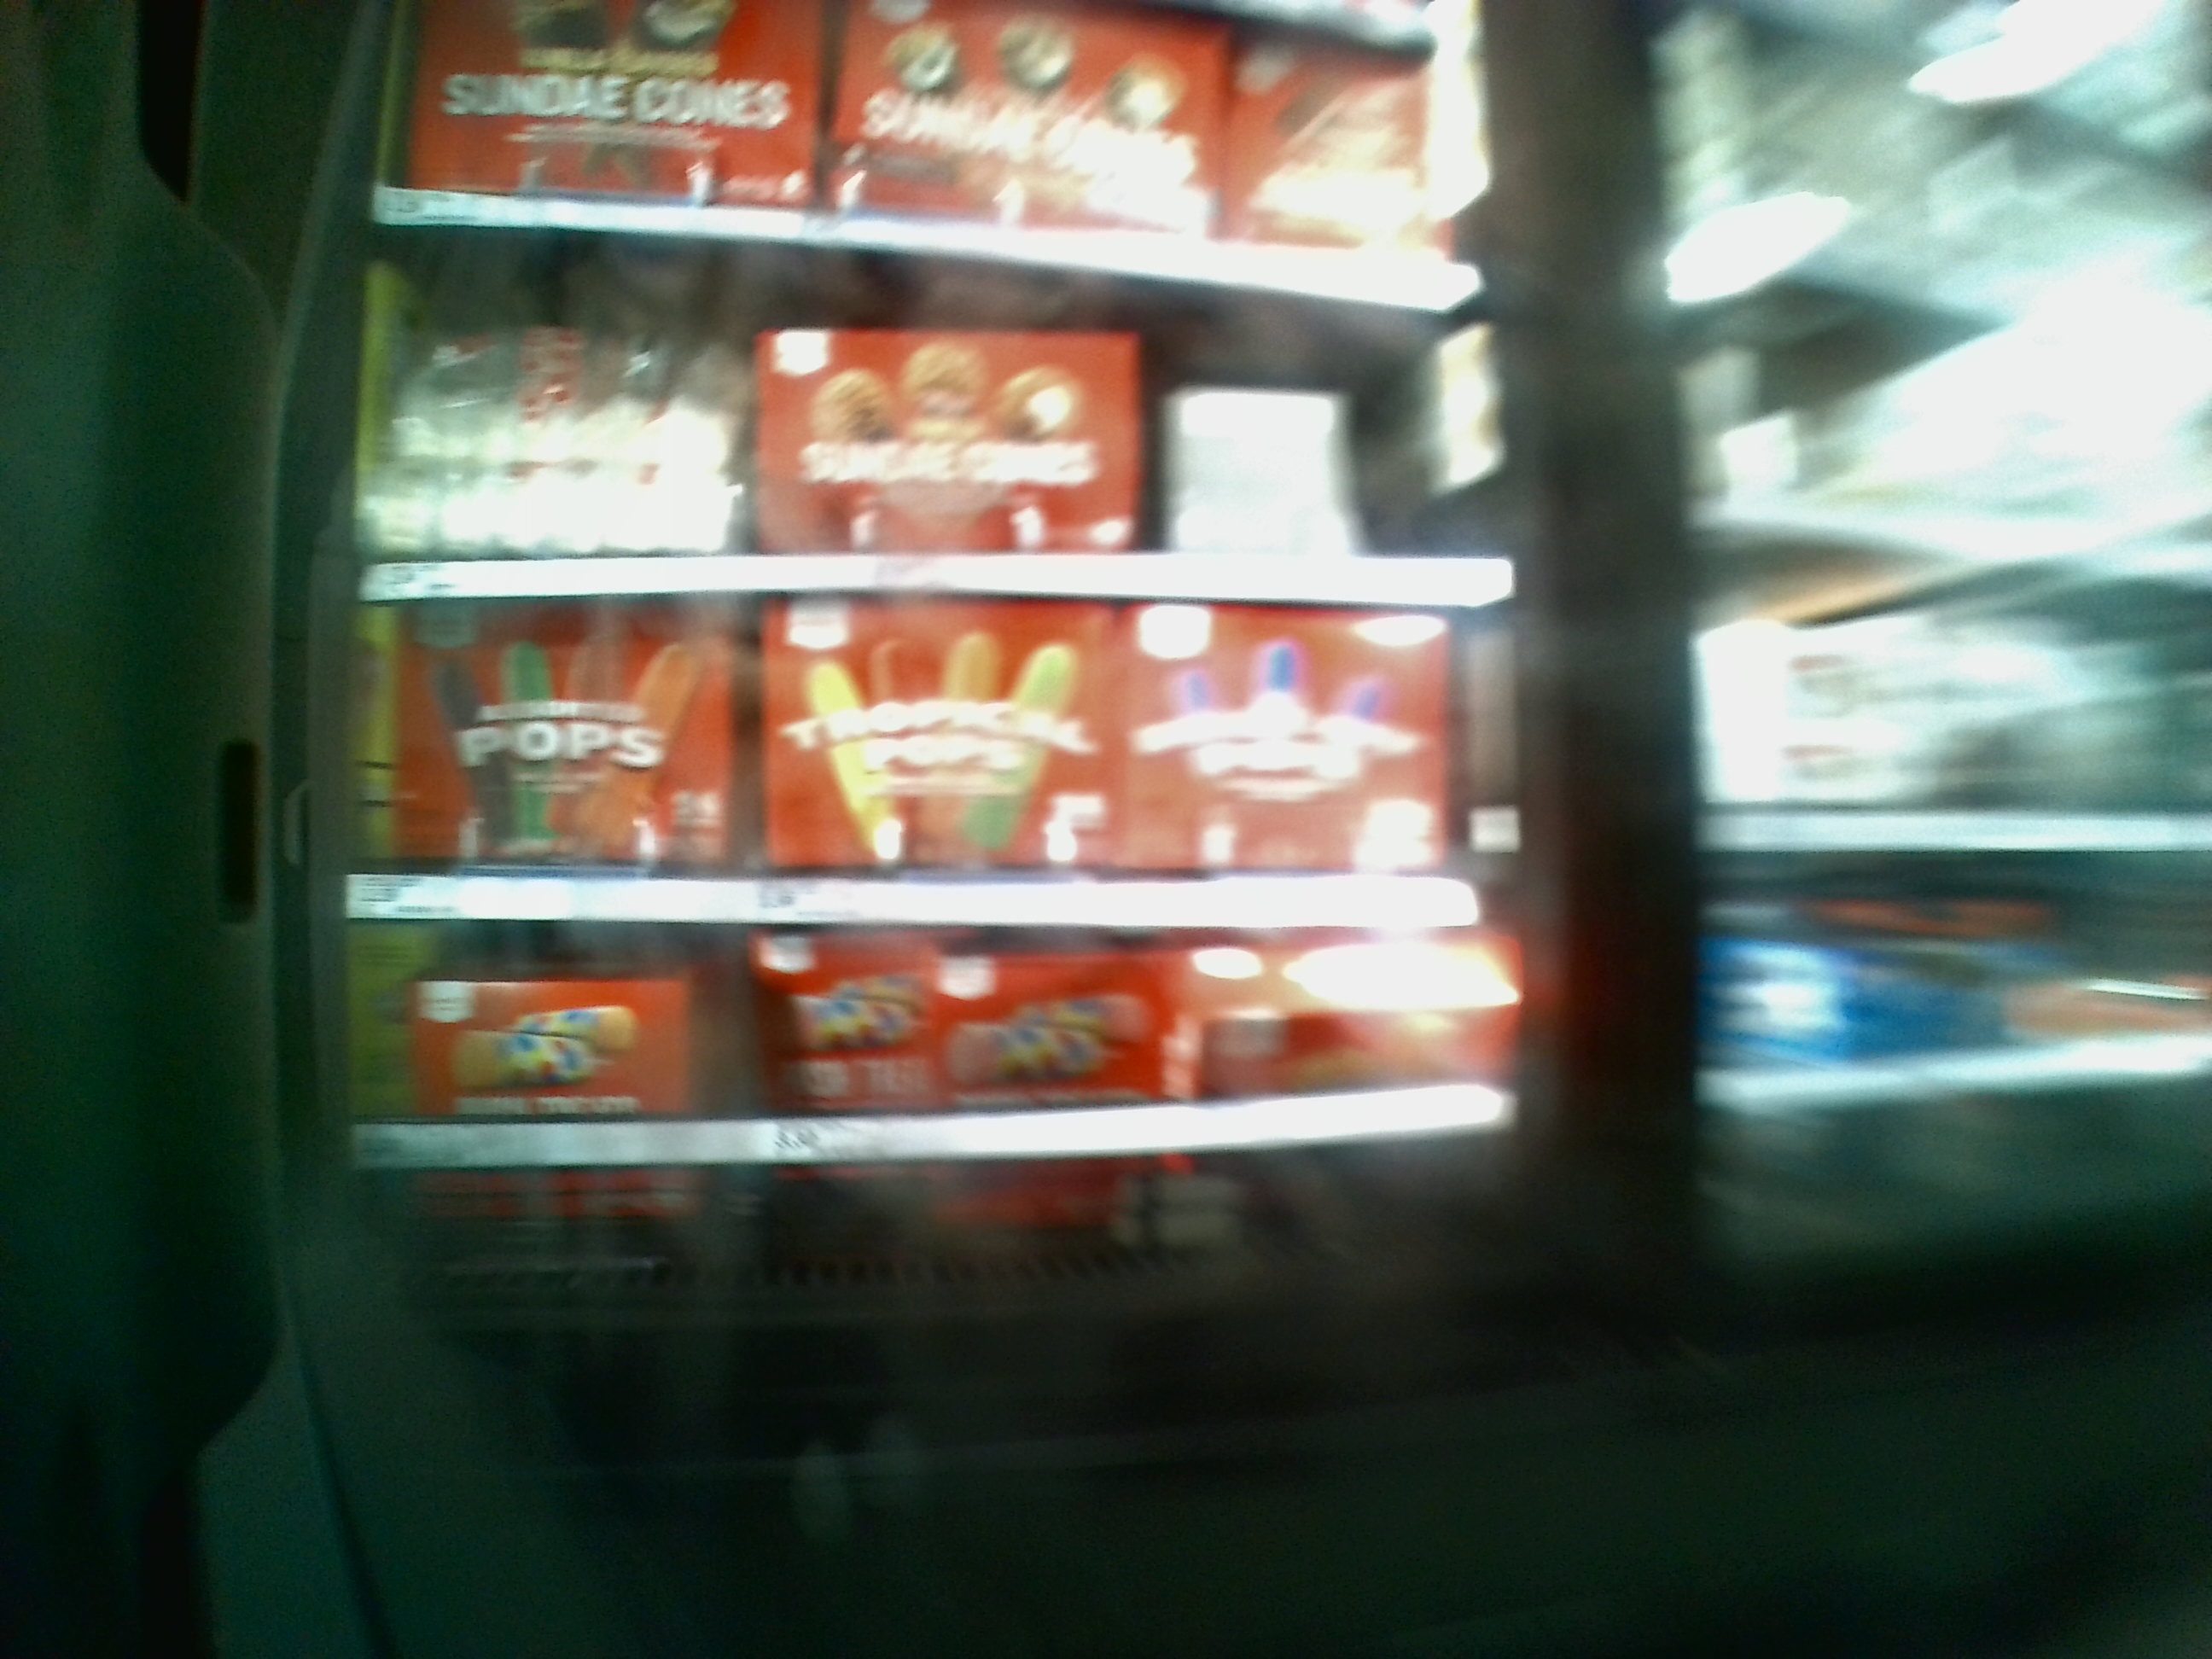shelf: (371, 228, 1505, 610), (374, 932, 1508, 1262), (371, 606, 1479, 931)
